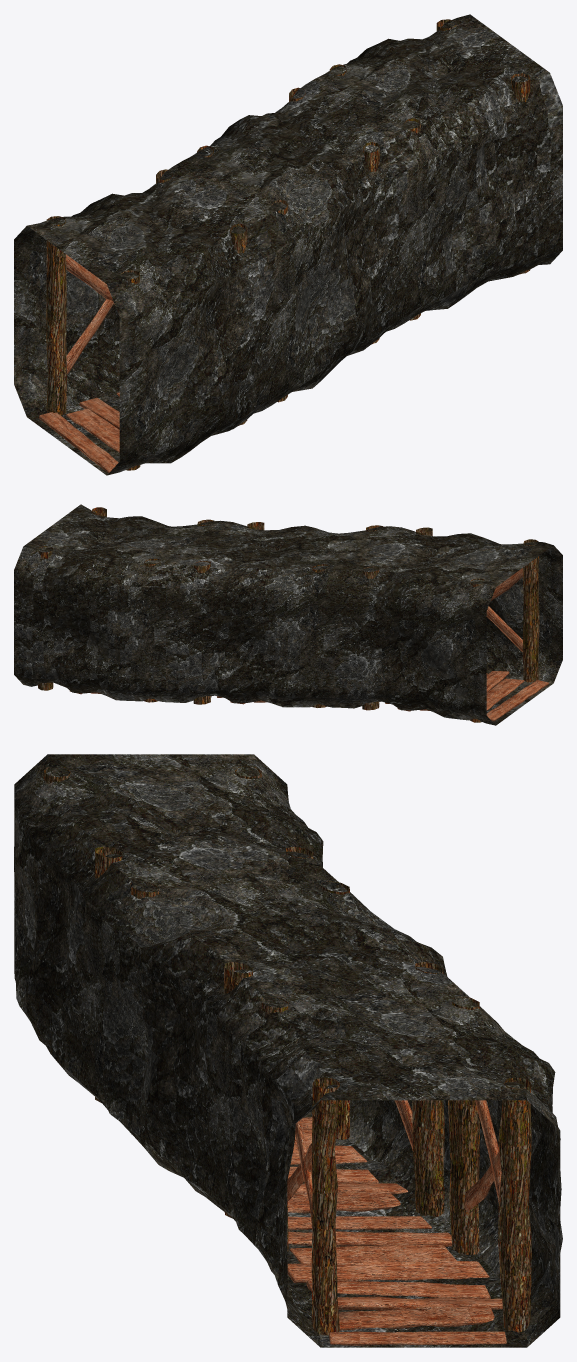
The model's file is Cave_022.fbx.
3 views of the same model, one above another, from view 1: azimuth 30°, elevation 25°; view 2: azimuth 150°, elevation 25°; view 3: azimuth 270°, elevation 25° (orthographic). The views are drawn at different scales.
Parts seen in each view (by area): view 1: Cave.022; view 2: Cave.022; view 3: Cave.022.
Part boxes in pixels (x1=…): Cave.022: x1=14, y1=14, x2=562, y2=475; Cave.022: x1=14, y1=504, x2=562, y2=725; Cave.022: x1=14, y1=754, x2=562, y2=1347.
Bounding box in the file's own units: 900 × 313 × 603.
